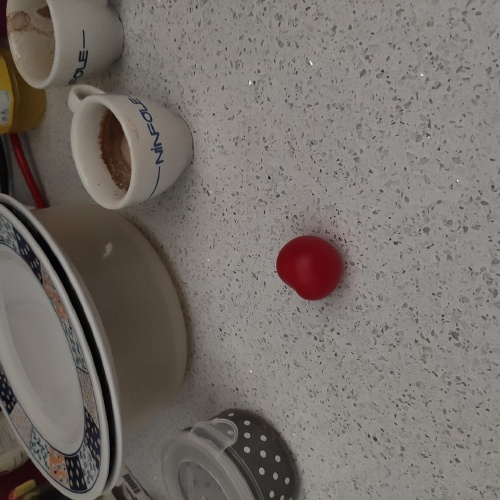pomodoro: (272, 230, 353, 307)
